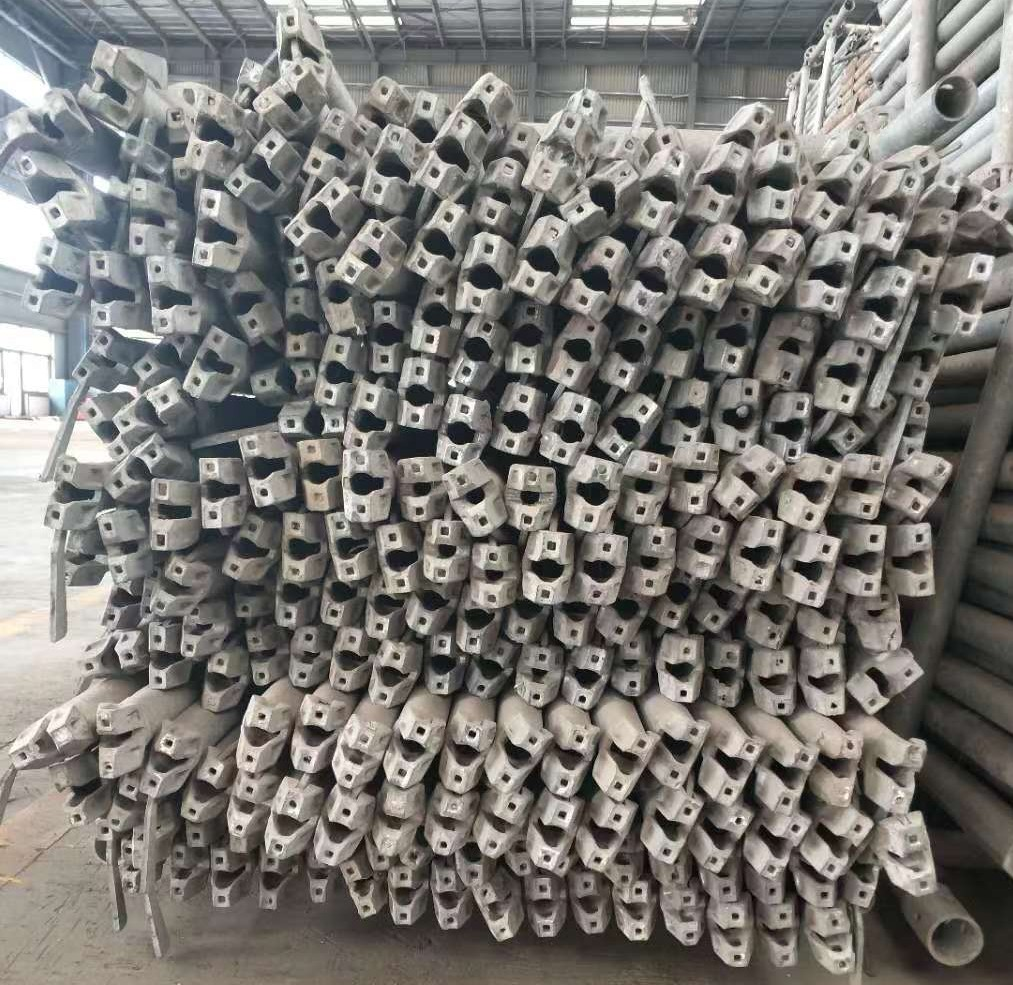NHsquare_steel: (1, 88, 69, 142), (75, 39, 119, 112), (377, 796, 412, 855)
THsquare_steel: (805, 152, 874, 233), (527, 109, 591, 192), (560, 165, 642, 228), (637, 146, 692, 234), (623, 236, 683, 316), (14, 149, 73, 230), (931, 165, 1008, 225), (698, 141, 753, 224), (287, 182, 353, 249), (875, 167, 925, 253), (408, 196, 461, 277), (570, 237, 623, 318), (362, 127, 414, 209), (693, 225, 744, 308), (228, 130, 289, 199), (518, 217, 568, 301), (748, 225, 801, 303), (867, 264, 914, 348), (811, 231, 857, 315), (335, 215, 387, 287), (548, 321, 605, 386), (543, 726, 596, 794), (487, 729, 546, 790), (953, 251, 993, 340), (460, 232, 502, 316), (600, 734, 653, 800), (410, 279, 456, 355), (476, 158, 525, 229), (816, 817, 872, 879), (860, 661, 924, 715), (600, 397, 661, 453), (444, 470, 496, 535), (723, 456, 781, 514), (218, 274, 266, 344), (761, 138, 800, 224), (453, 316, 499, 388), (305, 107, 349, 182), (388, 721, 435, 790), (796, 458, 841, 529), (772, 317, 815, 391), (579, 534, 624, 604), (187, 88, 224, 173), (612, 321, 656, 392), (316, 798, 359, 870), (903, 456, 952, 518), (41, 454, 82, 528), (252, 64, 312, 114), (915, 212, 956, 285), (497, 381, 536, 457), (798, 537, 839, 609), (717, 738, 761, 805), (771, 748, 815, 815), (182, 756, 225, 824), (266, 789, 307, 860), (759, 820, 809, 878), (700, 809, 746, 872), (653, 801, 699, 864), (236, 435, 275, 509), (347, 75, 404, 125), (831, 338, 868, 415), (186, 325, 225, 398), (121, 178, 157, 257), (80, 398, 125, 461), (661, 722, 703, 789), (366, 298, 403, 374), (115, 389, 180, 432), (588, 806, 631, 871), (816, 911, 861, 973), (188, 187, 222, 269), (314, 334, 352, 407), (577, 457, 615, 530), (631, 526, 670, 597), (472, 882, 518, 942), (24, 239, 60, 315), (318, 259, 354, 335), (448, 724, 486, 796), (899, 827, 939, 895), (547, 393, 584, 466), (531, 530, 567, 605), (626, 452, 664, 523), (482, 795, 525, 857), (290, 704, 328, 774), (743, 521, 783, 587), (131, 336, 192, 379), (368, 643, 410, 705), (509, 303, 545, 375), (282, 283, 315, 361), (661, 312, 700, 378), (375, 526, 414, 592), (442, 397, 479, 466), (70, 331, 118, 384), (569, 872, 610, 934), (84, 251, 117, 328), (143, 256, 176, 333), (531, 804, 570, 869), (94, 513, 130, 583), (909, 329, 944, 400), (139, 734, 179, 796), (428, 797, 469, 857), (227, 515, 265, 579), (399, 359, 434, 428), (888, 741, 921, 814), (345, 383, 382, 448), (775, 394, 812, 459), (677, 448, 714, 513), (326, 517, 363, 582), (12, 728, 72, 768), (714, 906, 754, 966), (239, 706, 274, 774), (690, 518, 729, 579), (905, 526, 938, 598), (337, 728, 377, 787), (813, 650, 848, 717), (51, 769, 92, 826), (225, 777, 265, 835), (675, 381, 711, 445), (717, 311, 752, 376), (280, 513, 312, 584), (829, 734, 861, 805), (526, 878, 563, 939), (621, 881, 658, 942), (568, 651, 607, 708), (424, 521, 461, 581), (731, 100, 779, 146), (147, 478, 177, 551), (851, 455, 884, 520), (474, 547, 508, 610), (855, 526, 886, 595), (342, 862, 380, 918), (766, 905, 802, 964), (512, 465, 545, 529), (297, 442, 327, 512), (152, 559, 190, 614), (251, 364, 316, 396), (198, 457, 226, 530), (105, 780, 142, 834), (388, 867, 423, 924), (765, 652, 796, 716), (459, 74, 504, 118), (401, 456, 431, 522), (432, 871, 467, 927), (699, 588, 742, 633), (93, 709, 121, 778), (331, 629, 362, 691), (77, 645, 141, 675), (201, 652, 233, 712), (669, 639, 699, 703), (344, 451, 371, 522), (475, 643, 509, 699), (523, 647, 555, 706), (205, 848, 237, 907), (166, 109, 191, 184), (144, 624, 171, 692), (670, 892, 706, 943), (289, 627, 319, 688), (712, 644, 741, 707), (757, 606, 798, 647), (425, 635, 452, 697), (846, 863, 880, 911), (271, 585, 309, 627), (900, 402, 929, 457), (245, 629, 272, 688), (99, 584, 135, 628), (278, 412, 345, 435), (410, 592, 447, 633), (321, 581, 355, 625), (368, 596, 402, 639), (168, 847, 195, 901), (255, 858, 282, 912), (621, 642, 647, 696), (303, 861, 335, 904), (662, 586, 695, 627), (181, 605, 206, 659), (411, 89, 435, 145), (819, 597, 848, 642), (605, 606, 641, 642), (462, 611, 491, 655), (117, 841, 140, 895), (554, 609, 585, 646), (233, 583, 263, 618), (509, 608, 539, 641), (505, 841, 532, 876)
THsquare_steel_blocked: (723, 374, 760, 450), (274, 9, 313, 62)
circle_steel: (930, 918, 985, 966), (930, 74, 980, 123)
